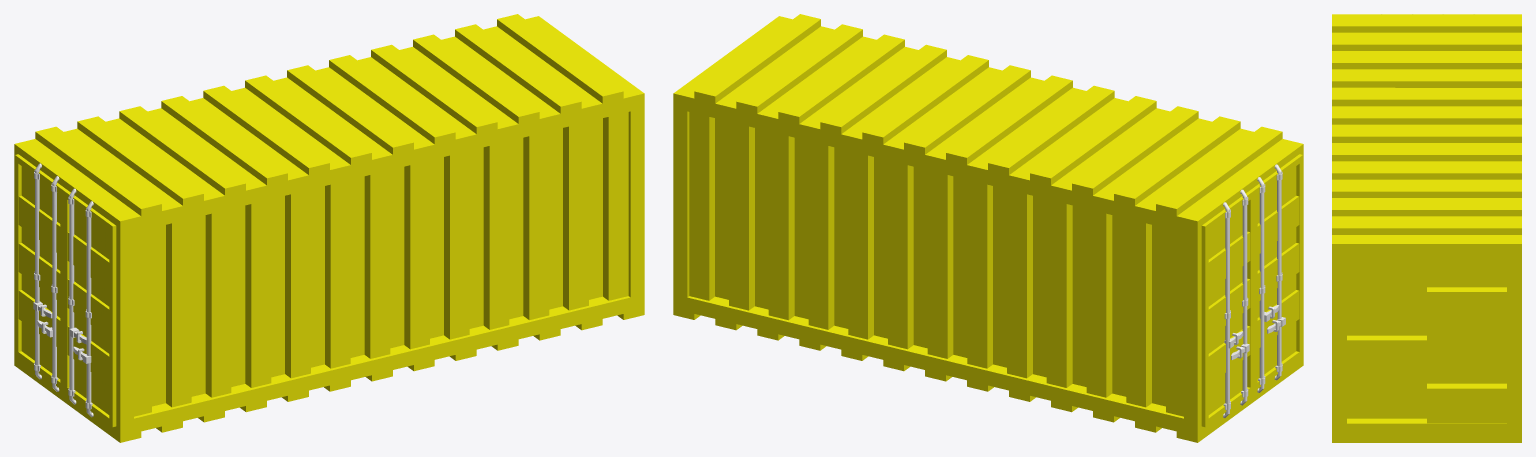
Rendered from containeryellow.fbx.
The picture shows the model from 3 angles, left to right: view 1: azimuth 30°, elevation 25°; view 2: azimuth 150°, elevation 25°; view 3: azimuth 270°, elevation 25°; orthographic projection. The views are drawn at different scales.
Visible parts, largest first — view 1: containeryellow; view 2: containeryellow; view 3: containeryellow.
Part boxes in pixels (<box>): containeryellow: <box>14,14,644,442</box>; containeryellow: <box>673,14,1303,442</box>; containeryellow: <box>1332,14,1521,442</box>.
Size of the model in its own units: 1159 by 476 by 399.
